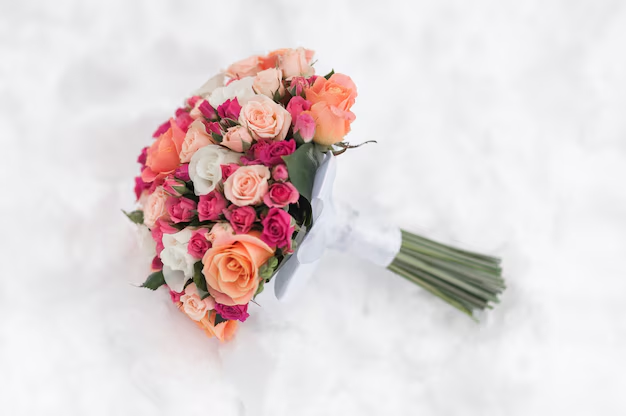Orange: (202, 234, 272, 305), (306, 72, 364, 148), (141, 118, 187, 183), (196, 302, 237, 343)
Pink: (241, 96, 291, 141), (226, 164, 271, 205), (263, 207, 298, 253), (279, 47, 310, 87), (141, 185, 169, 229), (194, 191, 229, 221), (182, 120, 208, 160), (264, 179, 300, 207), (225, 203, 259, 232), (257, 139, 296, 164), (217, 96, 244, 125), (221, 126, 254, 149), (168, 196, 195, 223), (295, 111, 317, 142), (289, 75, 319, 97)
White: (187, 143, 243, 196), (159, 226, 204, 291), (211, 75, 261, 110), (188, 73, 229, 95)
